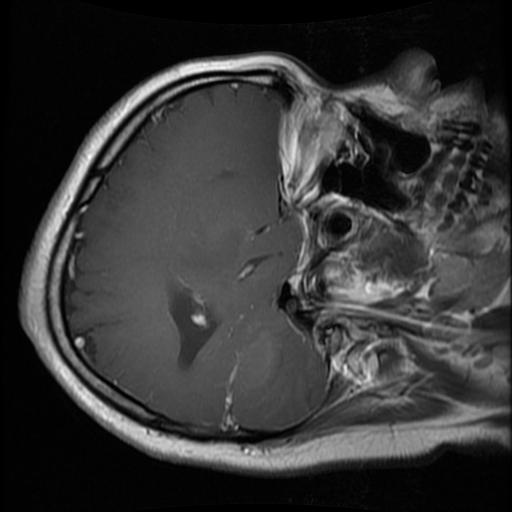glioma: (167, 288, 220, 369)
